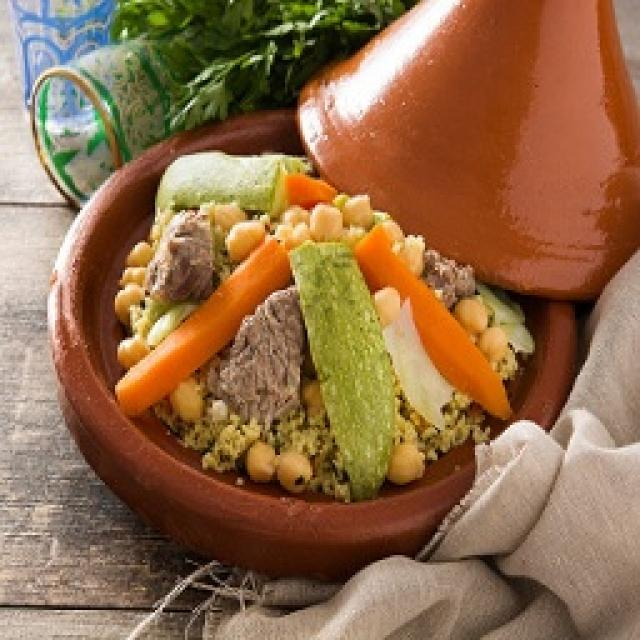Couscous: (114, 151, 534, 381), (152, 284, 351, 499), (370, 286, 489, 482)
